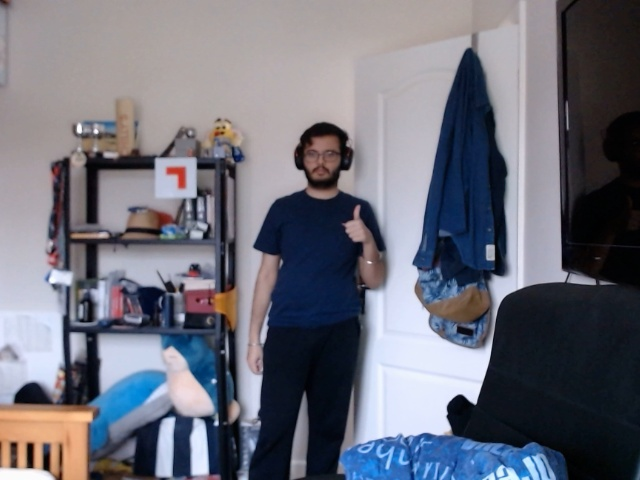Thumbs up: (339, 202, 373, 255)
